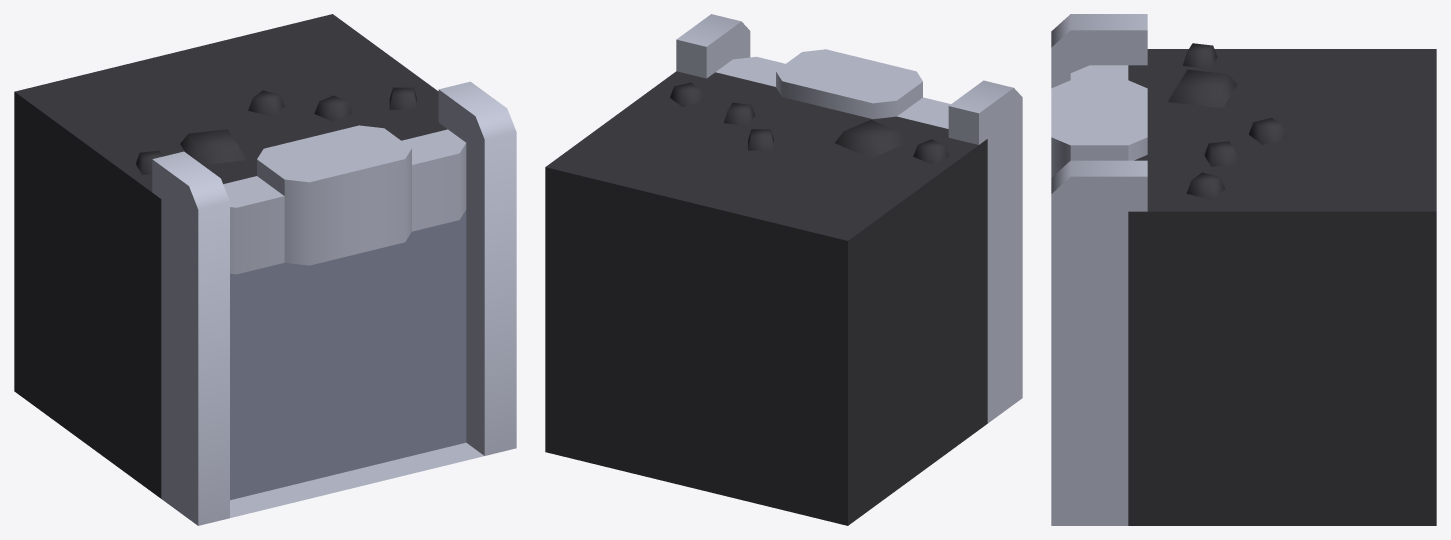
File: wall-half.dae
The picture shows the model from 3 angles, left to right: view 1: azimuth 30°, elevation 25°; view 2: azimuth 150°, elevation 25°; view 3: azimuth 270°, elevation 25°; orthographic projection. The views are drawn at different scales.
Visible parts, largest first — view 1: wall-half; view 2: wall-half; view 3: wall-half.
Boxes of the visible parts, x1,y1,x2,y2 form: wall-half: (14, 14, 516, 525); wall-half: (545, 14, 1022, 525); wall-half: (1051, 14, 1436, 525).
Bounding box in the file's own units: 1 × 1 × 1.
